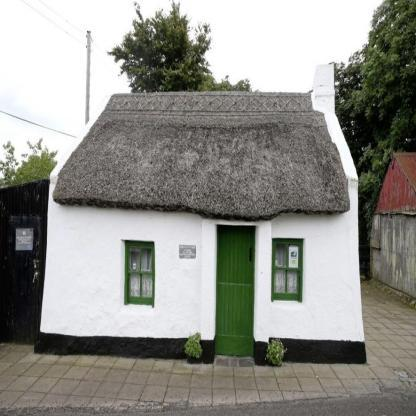Building Outline: (33, 63, 367, 365)
Dont: (265, 337, 289, 366), (182, 331, 203, 360)
Door: (215, 224, 256, 357)
Door Hole: (213, 224, 260, 365)
Facade: (52, 178, 357, 354)
Floor Slab: (41, 184, 358, 365)
Roof: (52, 91, 351, 222)
Window: (120, 239, 155, 308), (270, 238, 305, 303)
